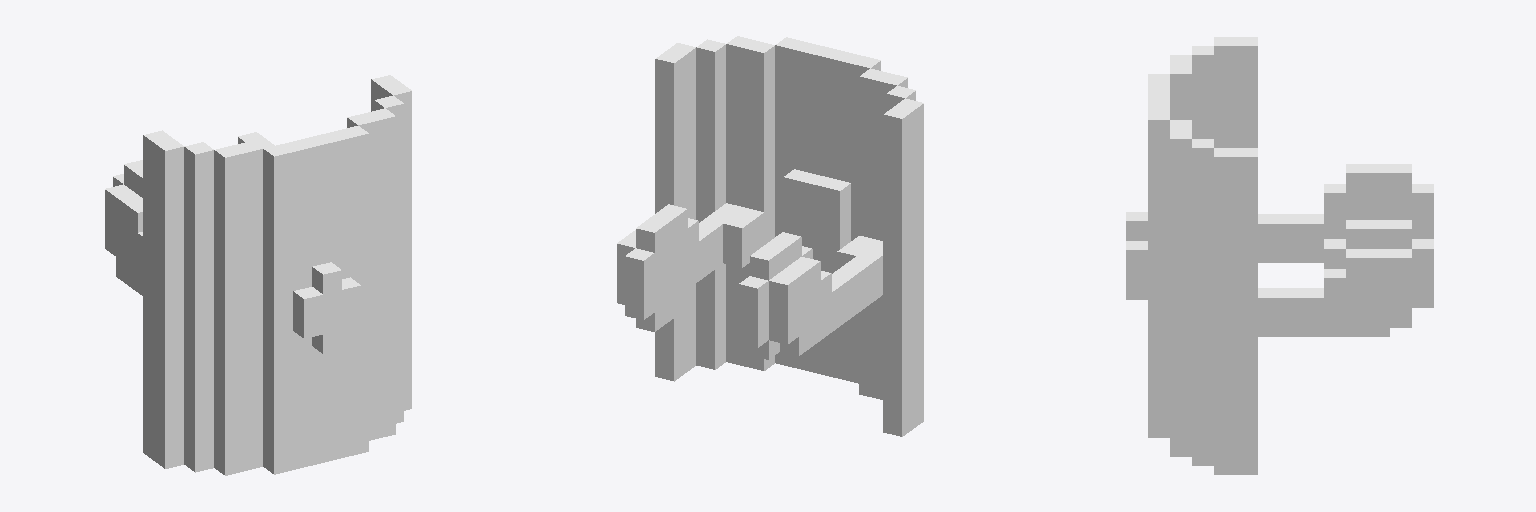
Rendered from WeaponShield.obj.
3 views of the same model, side by side, from view 1: azimuth 30°, elevation 25°; view 2: azimuth 150°, elevation 25°; view 3: azimuth 270°, elevation 25° (orthographic).
Parts seen in each view (by area): view 1: object 1; view 2: object 1; view 3: object 1.
Boxes of the visible parts, x1=… form: object 1: x1=105, y1=75, x2=411, y2=475; object 1: x1=617, y1=36, x2=923, y2=436; object 1: x1=1126, y1=37, x2=1433, y2=474.
Size of the model in its own units: 1.3 by 1.6 by 1.4.